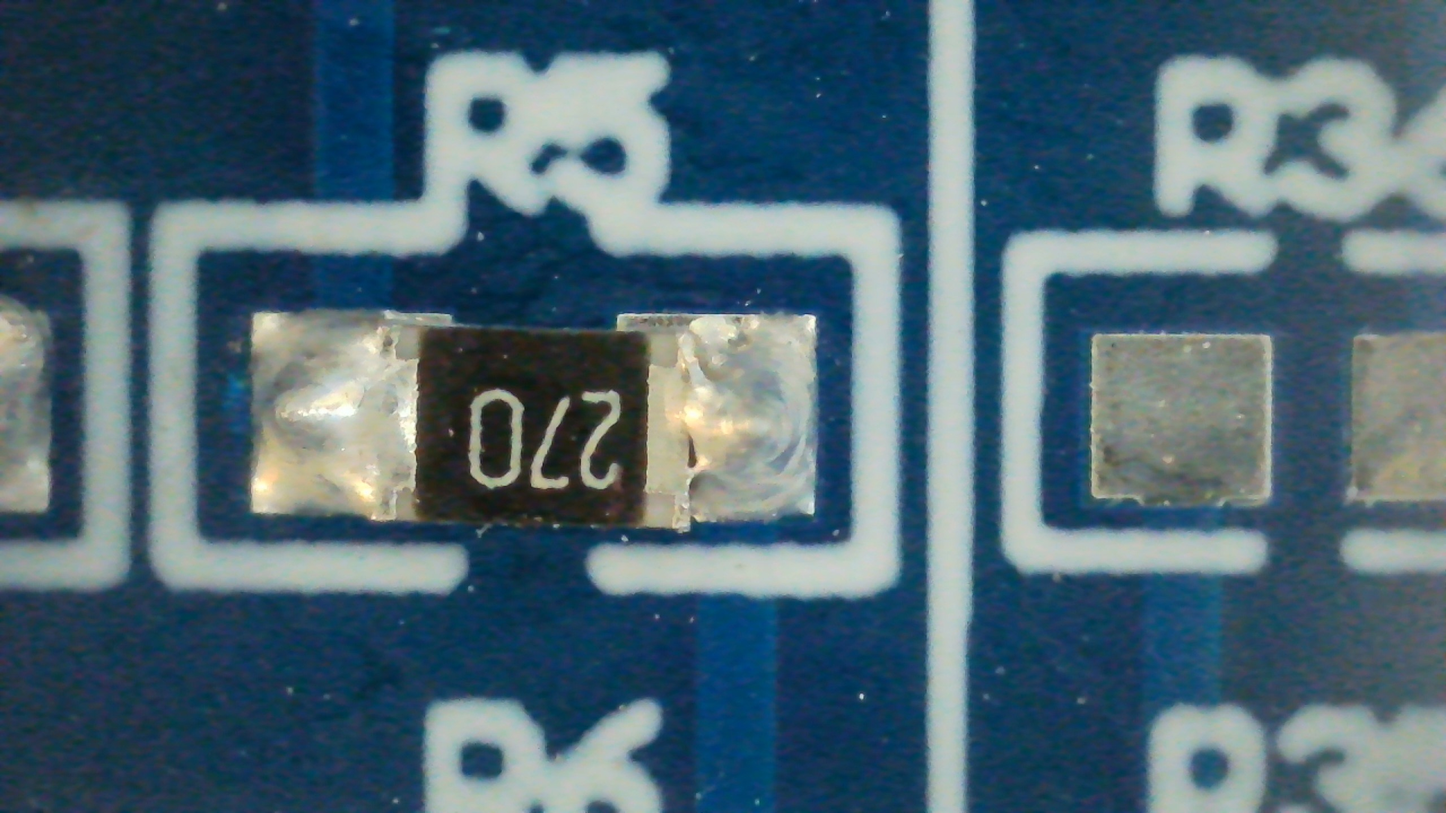NG: (252, 314, 815, 527)
